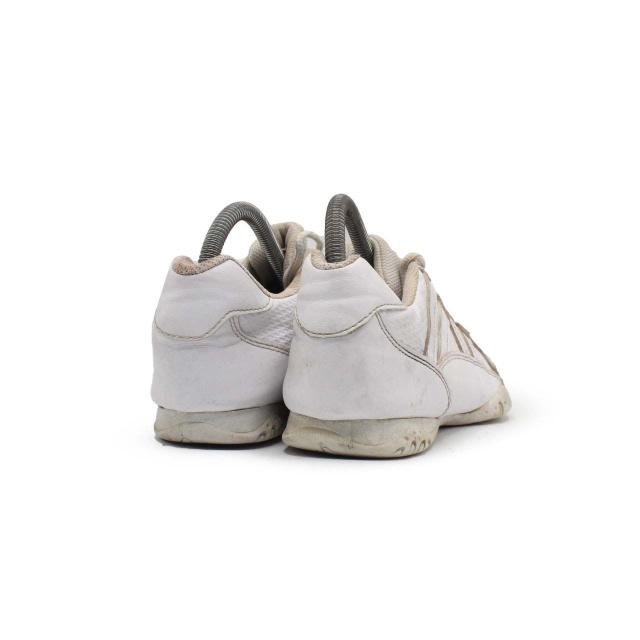heel: (280, 252, 434, 423), (150, 257, 295, 413)
midsole: (277, 391, 508, 459), (148, 403, 282, 444)
